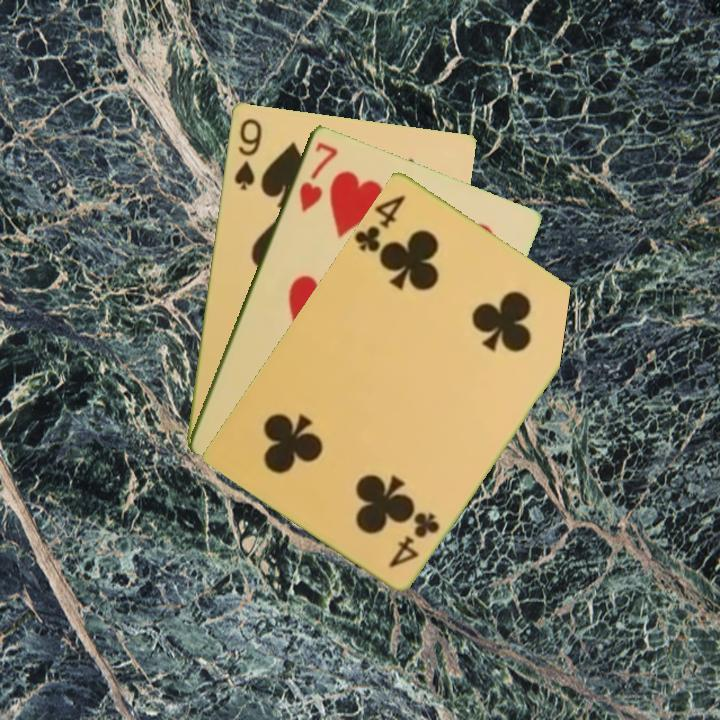4c: (385, 507, 443, 570), (352, 191, 408, 255)
7h: (295, 138, 341, 215)
9s: (230, 114, 265, 193)
